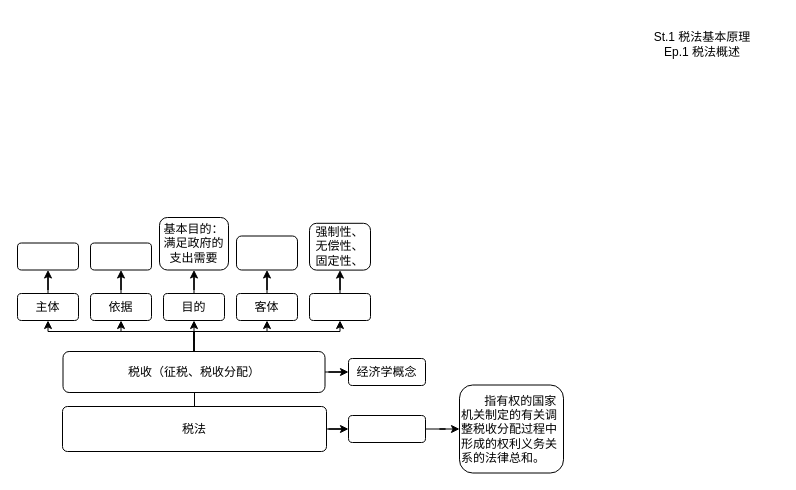
The diagram is 796 pixels wide and 490 high, and some of its shapes have lost their labels. Each missing label, with the centre of its shape:
国家: the point at 47,256
政治权利: the point at 121,256
法学概念: the point at 387,428
特征: the point at 339,306
社会剩余产品: the point at 267,252
